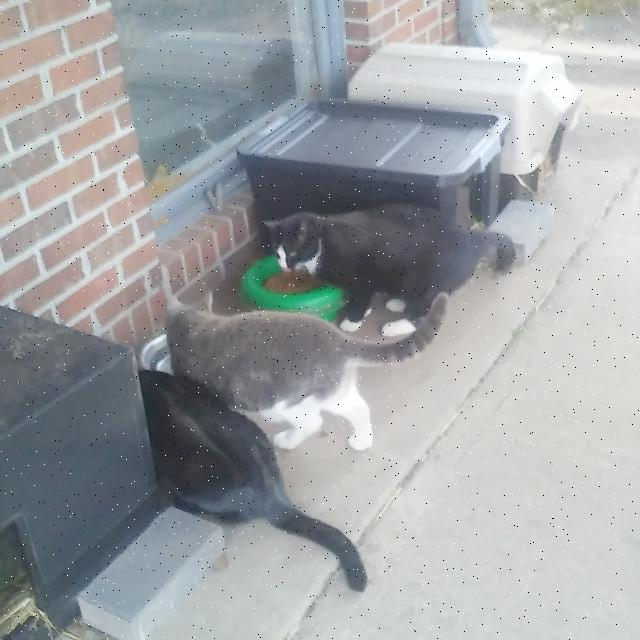cat: (139, 370, 366, 591), (165, 287, 448, 450), (265, 205, 515, 336)
